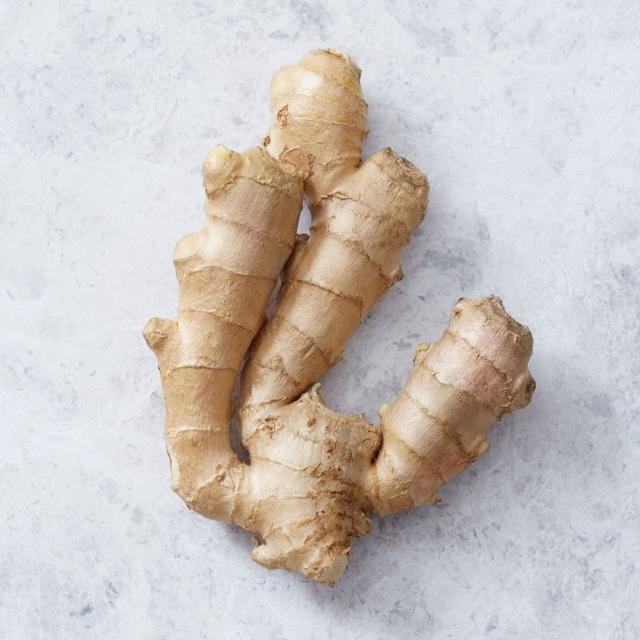ginger-root: (134, 43, 556, 598)
